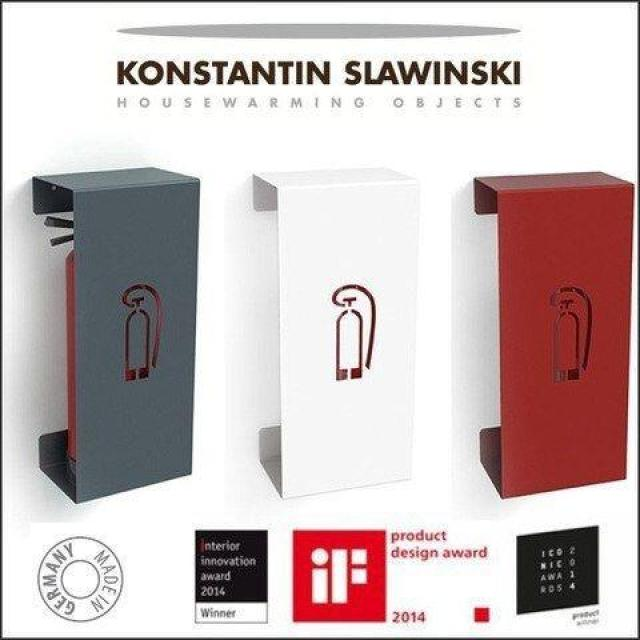fire_extinguisher: (37, 207, 154, 488)
